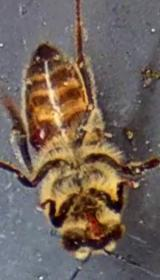varroa_mite: (20, 120, 58, 145)
